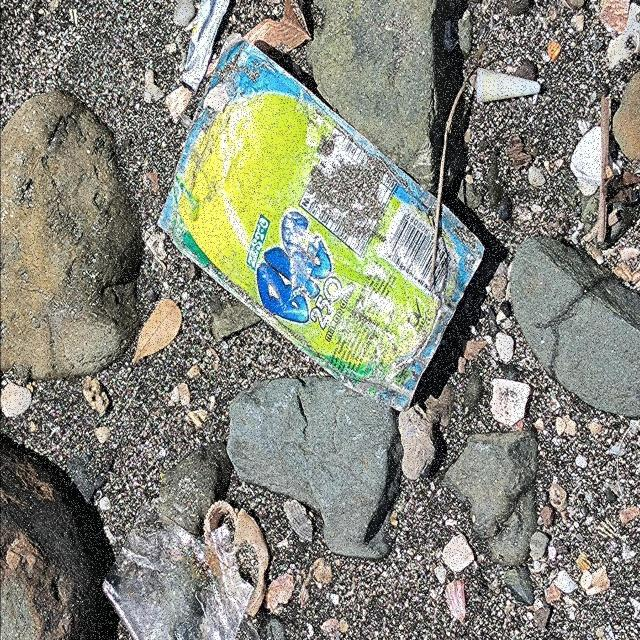plastic_waste: (155, 30, 487, 414)
